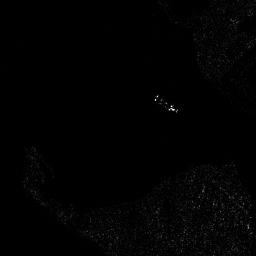ship: (153, 91, 180, 114)
